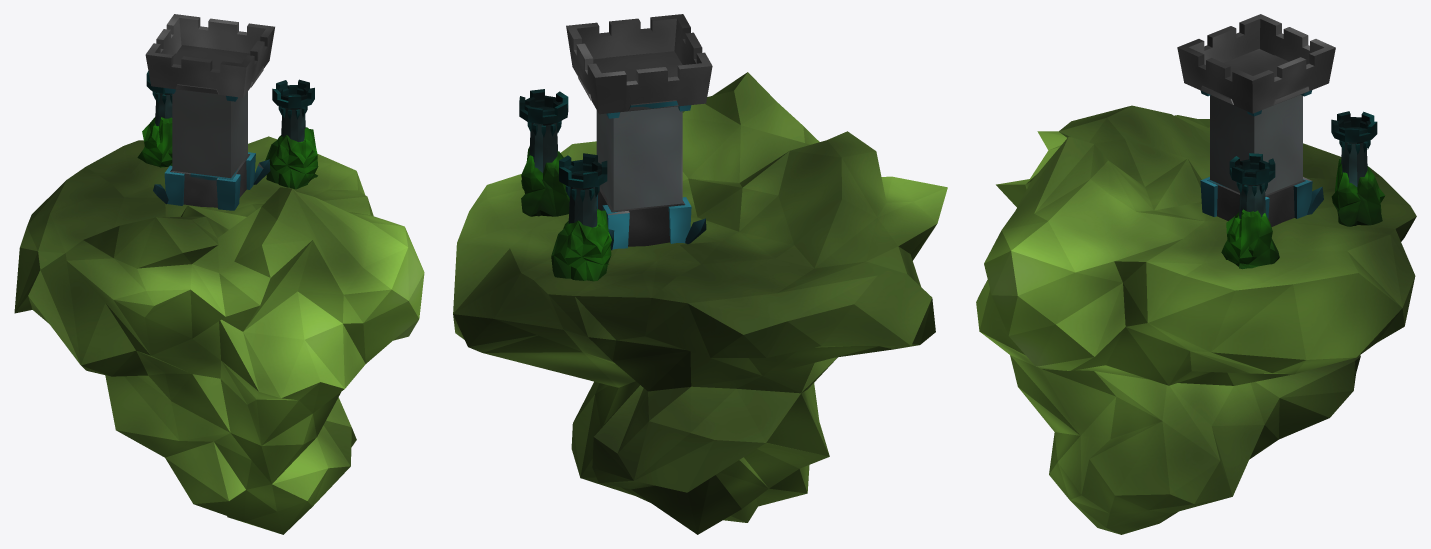
The model's file is Island&Castle.fbx.
3 renders of one model, left to right at view 1: azimuth 30°, elevation 25°; view 2: azimuth 150°, elevation 25°; view 3: azimuth 270°, elevation 25°, orthographic. The views are drawn at different scales.
Parts seen in each view (by area): view 1: Island, MainCastle1, WatchTower2, WatchTower1; view 2: Island, MainCastle1, WatchTower1, WatchTower2; view 3: Island, MainCastle1, WatchTower2, WatchTower1.
Part boxes in pixels (x1,y1,x2,y2): Island: (14,136,424,534); MainCastle1: (145,14,274,210); WatchTower2: (265,79,318,189); WatchTower1: (137,71,172,167); Island: (453,72,947,534); MainCastle1: (566,14,712,250); WatchTower1: (551,153,611,281); WatchTower2: (519,89,569,216); Island: (976,105,1416,534); MainCastle1: (1177,14,1335,226); WatchTower2: (1221,153,1279,269); WatchTower1: (1331,111,1385,226).
Bounding box in the file's own units: 213 × 256 × 213.
3 materials, 3 textured.
